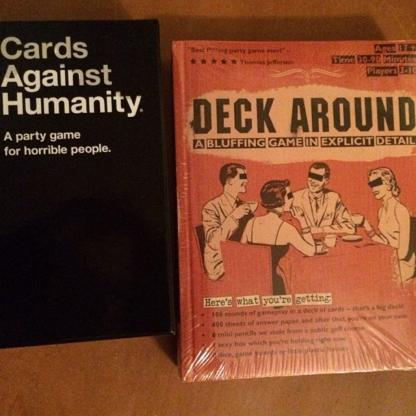book: (126, 8, 414, 407), (0, 18, 175, 350)
